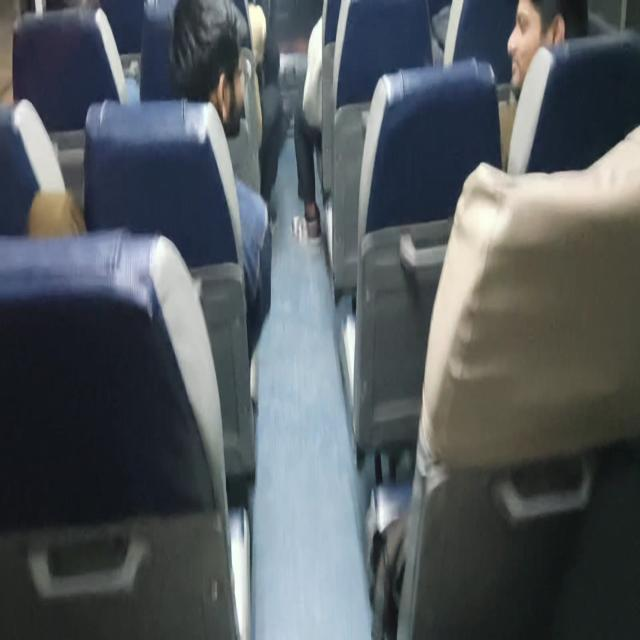person: (189, 18, 278, 132), (505, 6, 592, 118), (30, 165, 84, 250)
